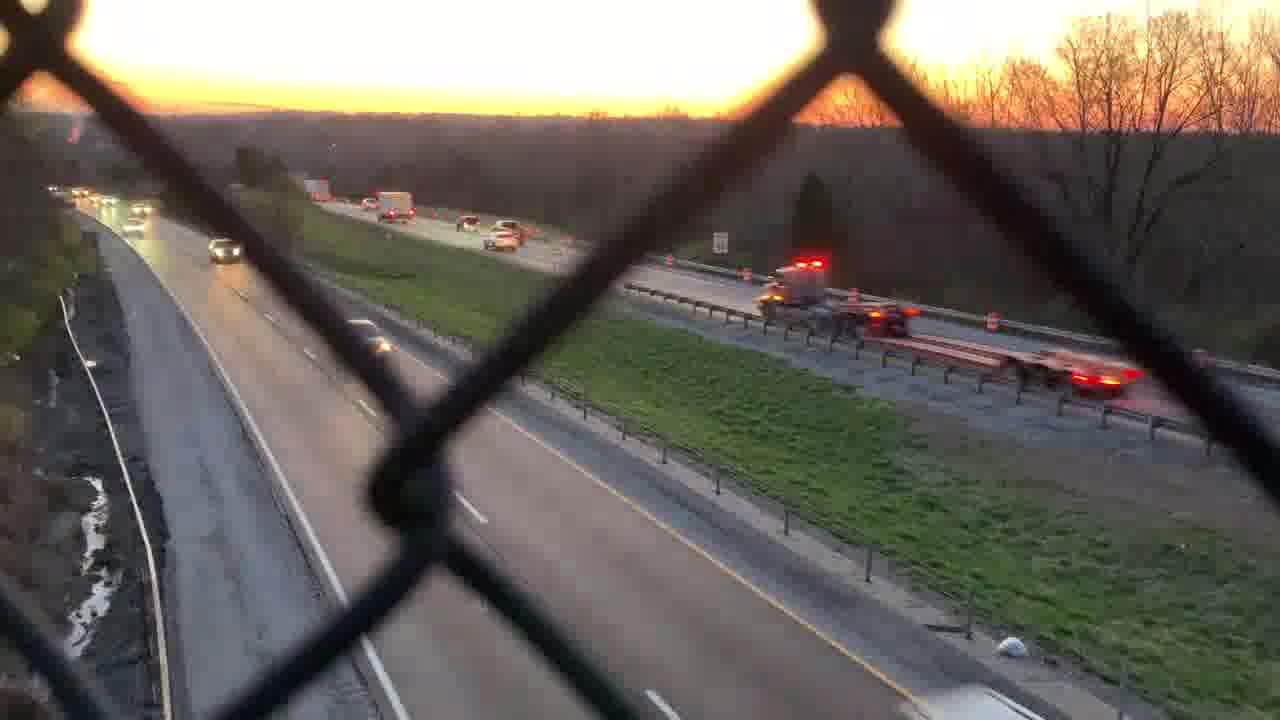heavyTruck: (754, 253, 1127, 397), (367, 188, 416, 223)
